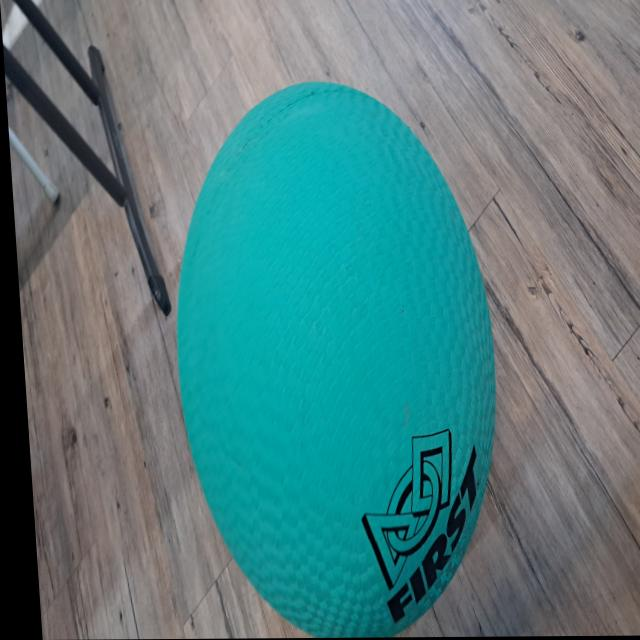ALGAE: (157, 78, 514, 636)
